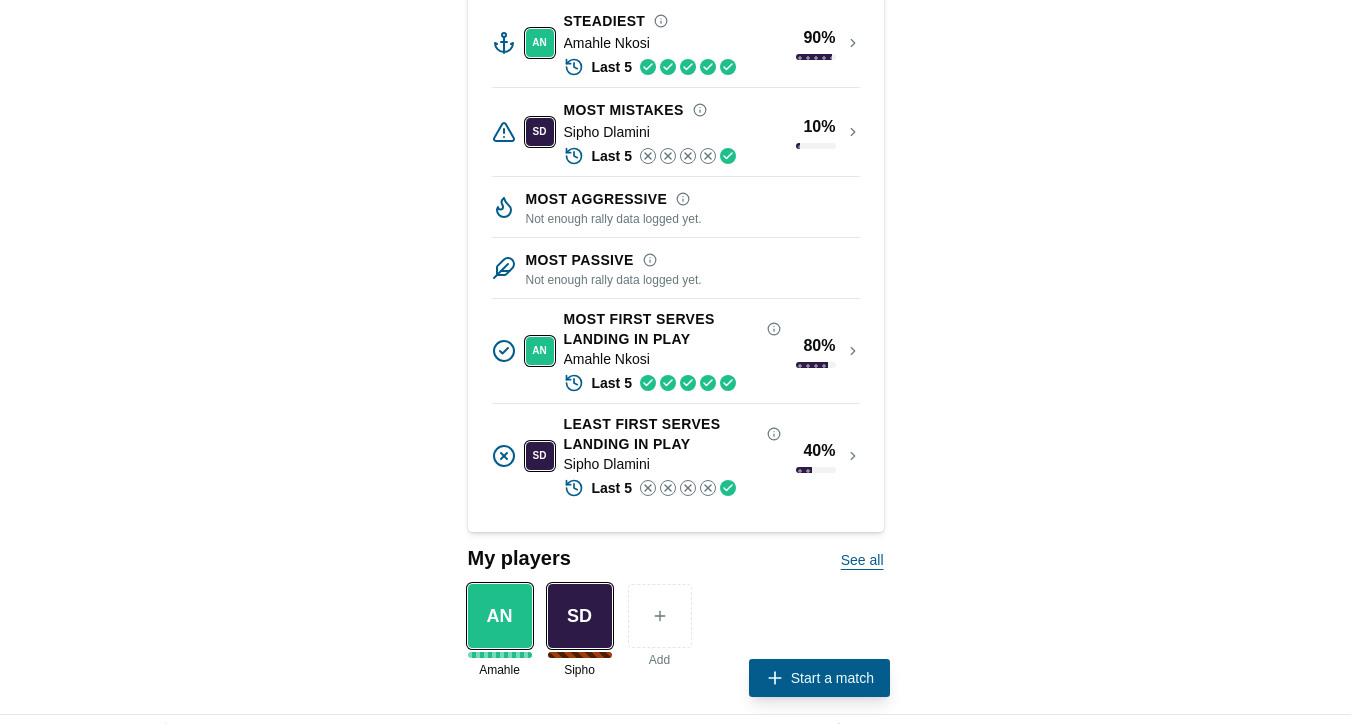
it: 'Add' opens the add-player sheet directly
The width and height of the screenshot is (1366, 724).
(page scrolled)
Check: the heading "My players" is shown, box [468,544,571,572]
Click the button with aria-label "Add a player" at (660, 631), box [628,584,692,678]
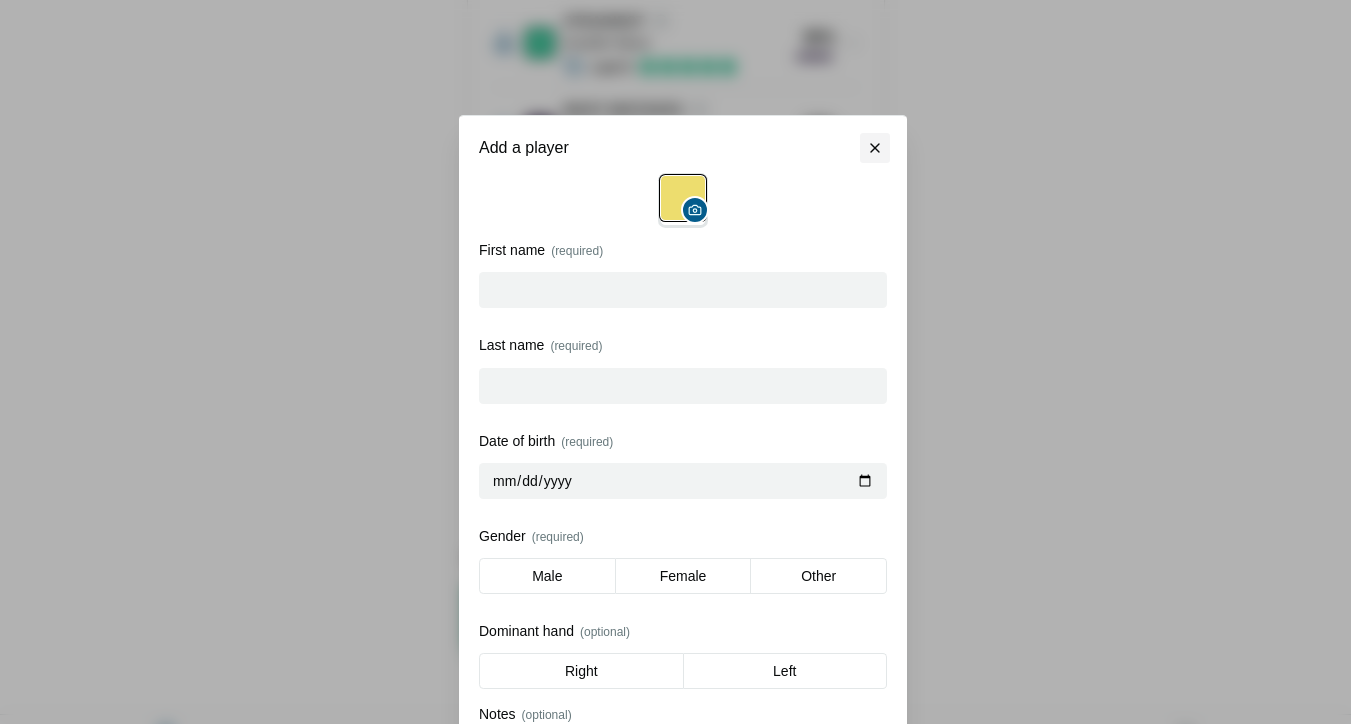
Check: the heading "Add a player" is shown, box [479,139,569,156]
